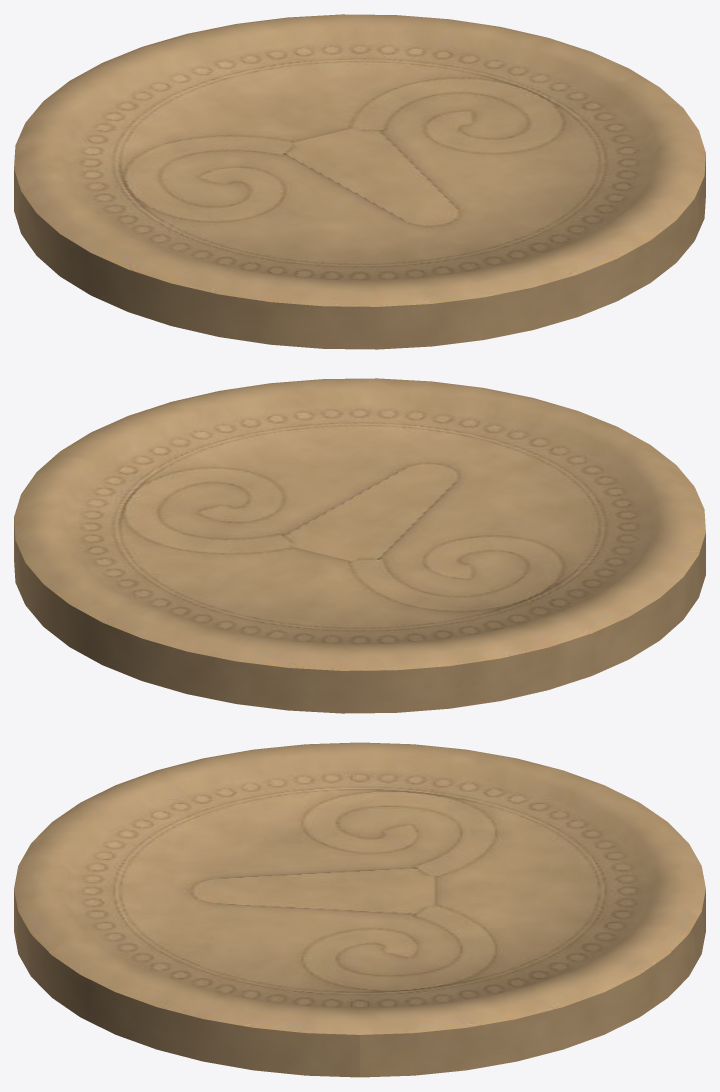
The model's file is monedas.glb.
3 views of the same model, one above another, from view 1: azimuth 30°, elevation 25°; view 2: azimuth 150°, elevation 25°; view 3: azimuth 270°, elevation 25° (orthographic).
Visible parts, largest first — view 1: coin_carnero; view 2: coin_carnero; view 3: coin_carnero.
Boxes of the visible parts, x1,y1,x2,y2 form: coin_carnero: [14, 14, 705, 349]; coin_carnero: [14, 378, 705, 713]; coin_carnero: [14, 742, 705, 1077].
Bounding box in the file's own units: 0.28 × 0.025 × 0.28.
4 materials, 4 textured.
